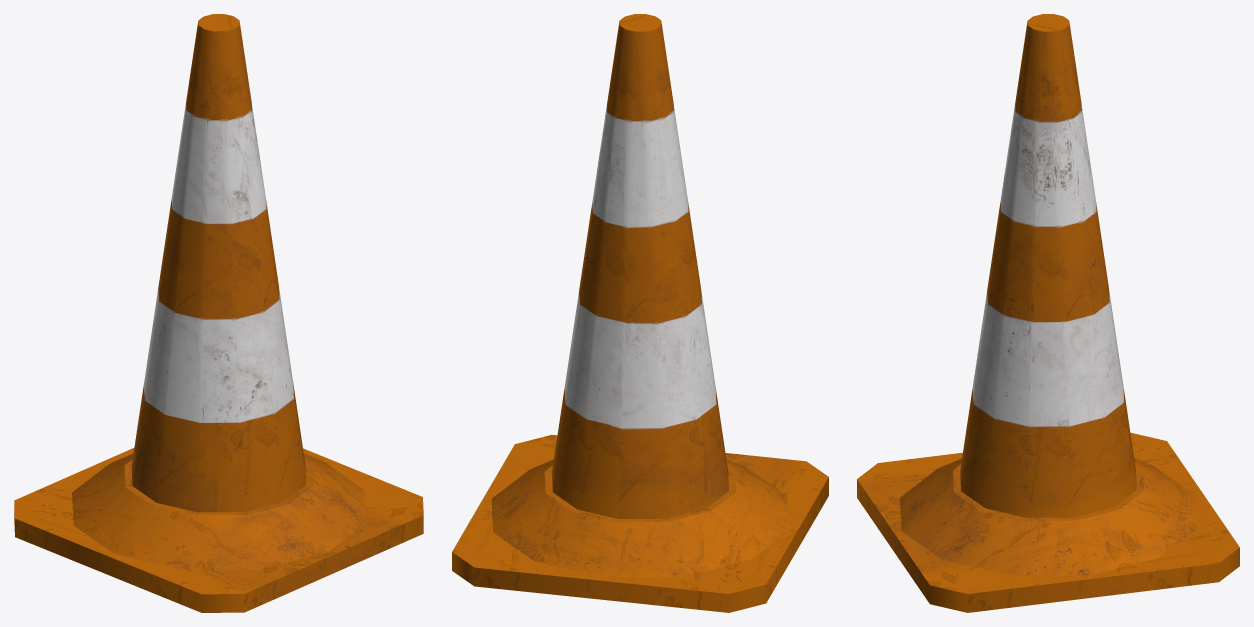
Rendered from Asset#1.fbx.
3 renders of one model, left to right at view 1: azimuth 30°, elevation 25°; view 2: azimuth 150°, elevation 25°; view 3: azimuth 270°, elevation 25°, orthographic.
Visible parts, largest first — view 1: Top_LP_Circle.003, Middle_LP_Circle.002, Bottom_LP_Plane; view 2: Top_LP_Circle.003, Middle_LP_Circle.002, Bottom_LP_Plane; view 3: Top_LP_Circle.003, Middle_LP_Circle.002, Bottom_LP_Plane.
Boxes of the visible parts, box(x1,y1,x2,y2) form: Top_LP_Circle.003: box(131, 14, 306, 512); Middle_LP_Circle.002: box(72, 453, 365, 569); Bottom_LP_Plane: box(14, 448, 423, 612); Top_LP_Circle.003: box(552, 14, 728, 518); Middle_LP_Circle.002: box(491, 459, 789, 577); Bottom_LP_Plane: box(452, 435, 828, 612); Top_LP_Circle.003: box(960, 14, 1136, 517); Middle_LP_Circle.002: box(900, 458, 1196, 575); Bottom_LP_Plane: box(857, 432, 1239, 612).
Size of the model in its own units: 133 by 196 by 133.
Materials: 1 (1 with a texture image).
